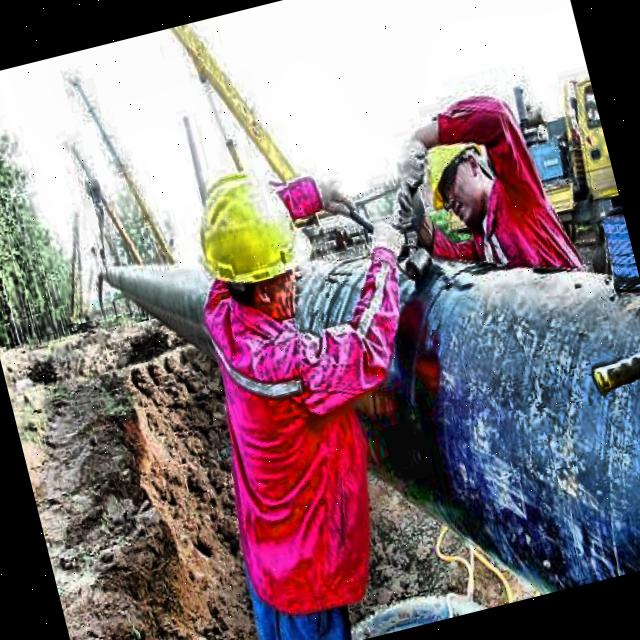helmet: (172, 145, 332, 345), (407, 129, 512, 244)
